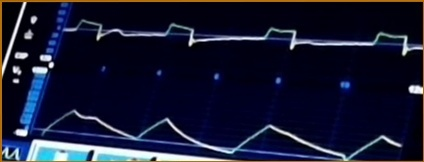Premature_cycling Flow: (64, 14, 422, 66)
Premature_cycling Volume: (41, 107, 402, 162)
